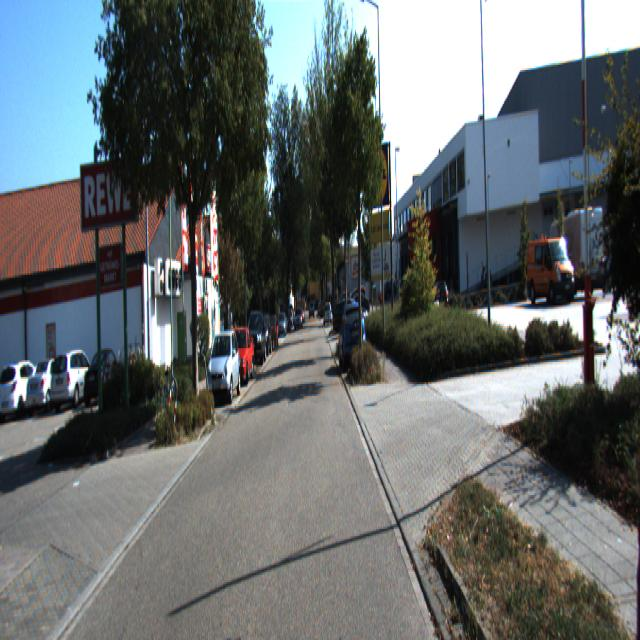Car: (50, 348, 102, 414), (0, 359, 51, 423), (27, 356, 76, 418), (206, 328, 241, 405), (338, 300, 366, 369), (225, 324, 254, 386), (245, 311, 267, 369), (255, 313, 273, 359)
DontCare: (370, 267, 452, 320), (278, 291, 335, 338)
Van: (526, 226, 578, 304)
